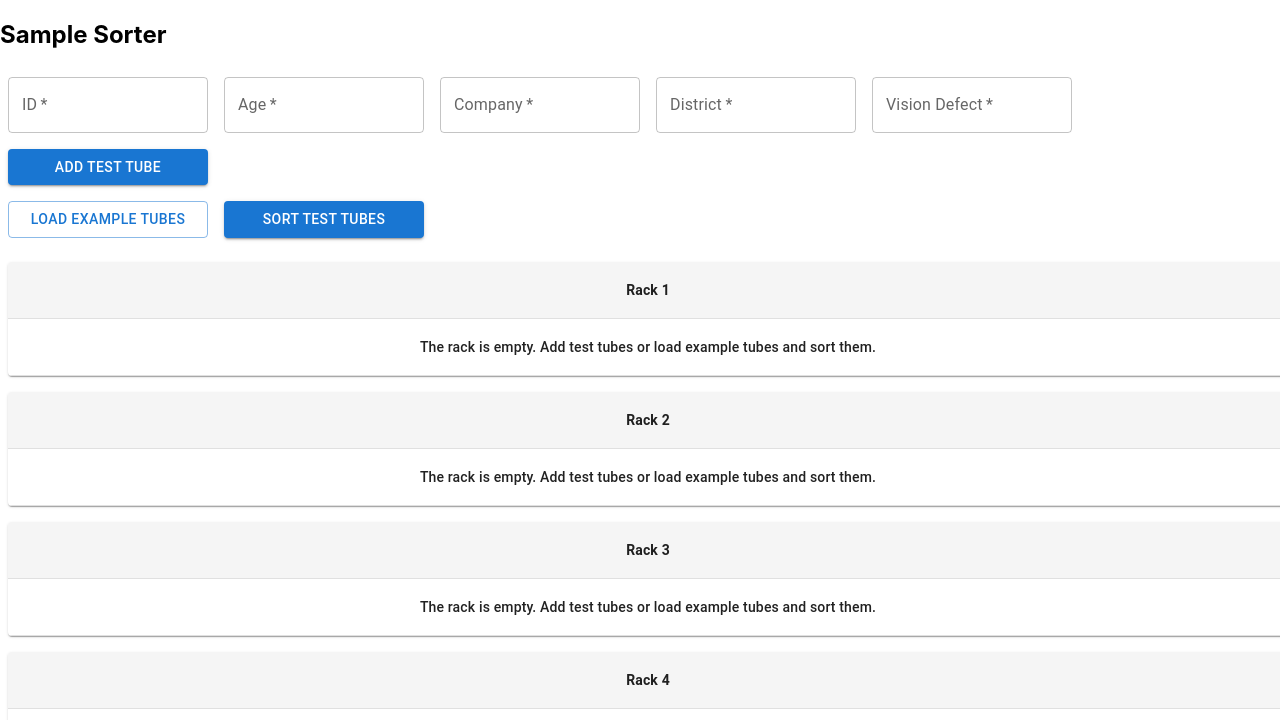
Test: SampleSorter › displays sorted racks after clicking Sort Test Tubes
Type "tube1" into the field labelled "ID *".
click(108, 105); type("tube1")  # box [8,77,208,133]
Type "25" into the number field labelled "Age *".
click(324, 105); type("25")  # box [224,77,424,133]
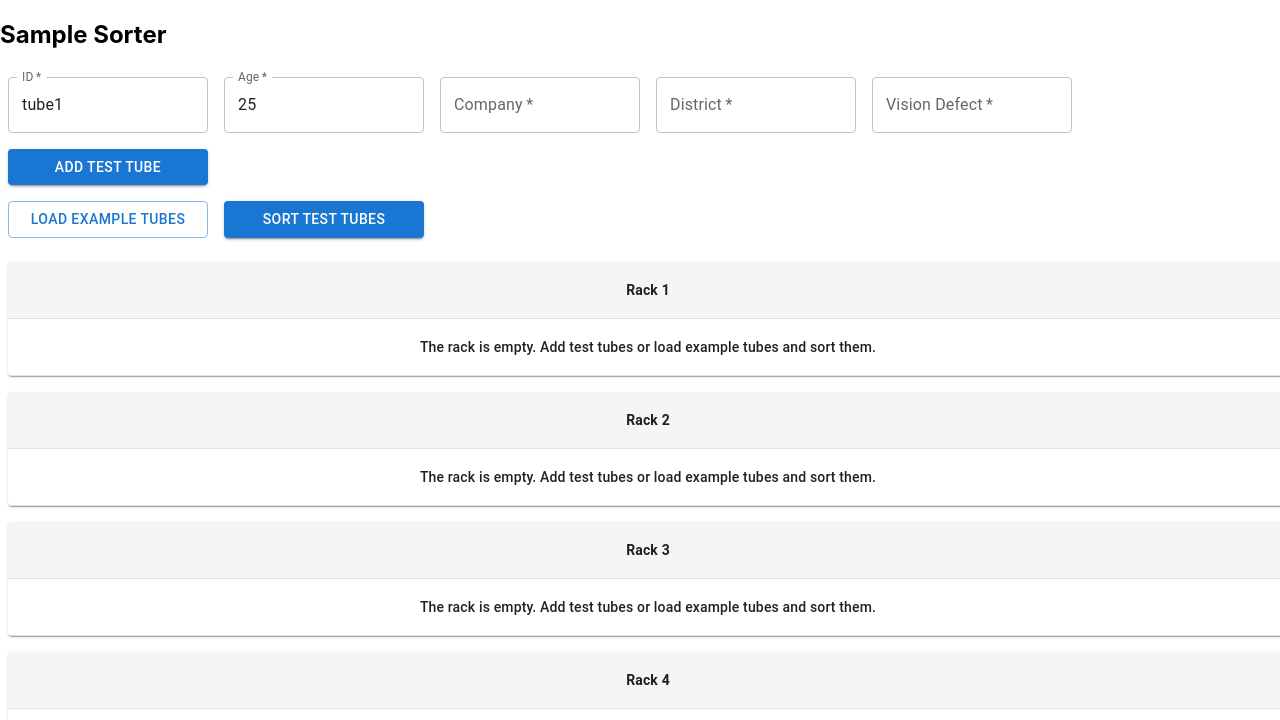
Type "CompanyA" into the field labelled "Company *".
click(540, 105); type("CompanyA")  # box [440,77,640,133]
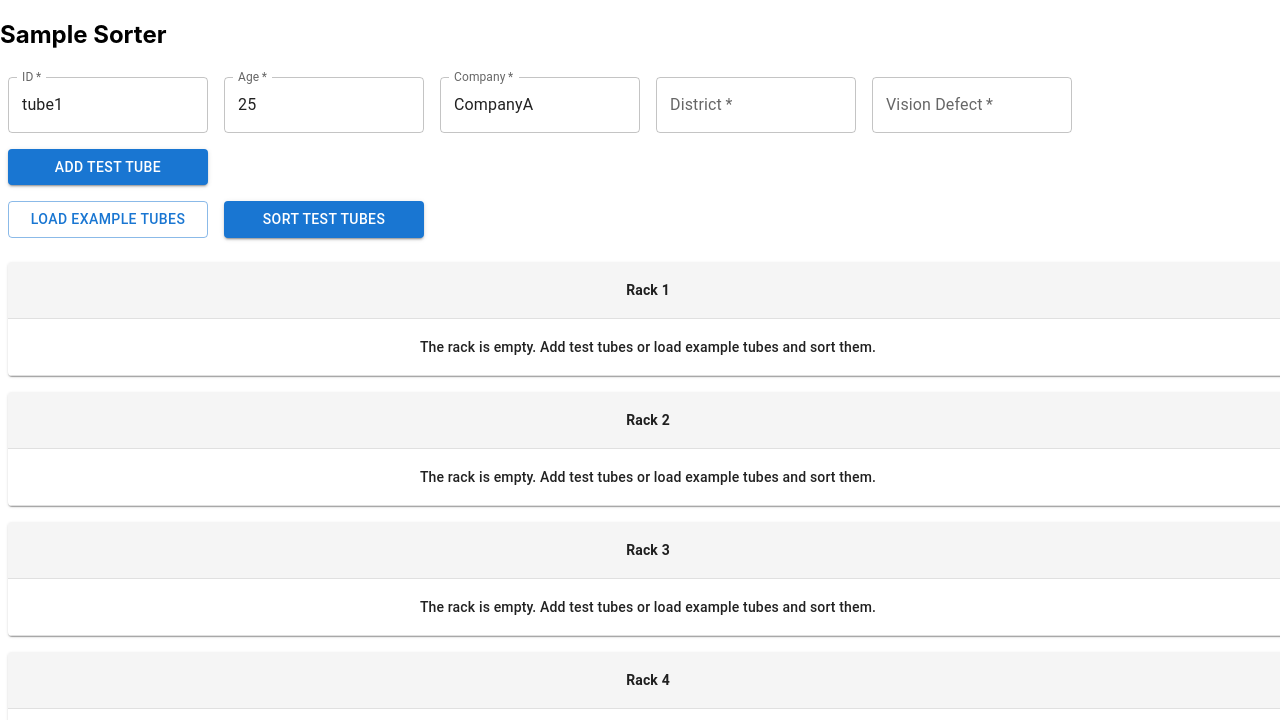
Type "District1" into the field labelled "District *".
click(756, 105); type("District1")  # box [656,77,856,133]
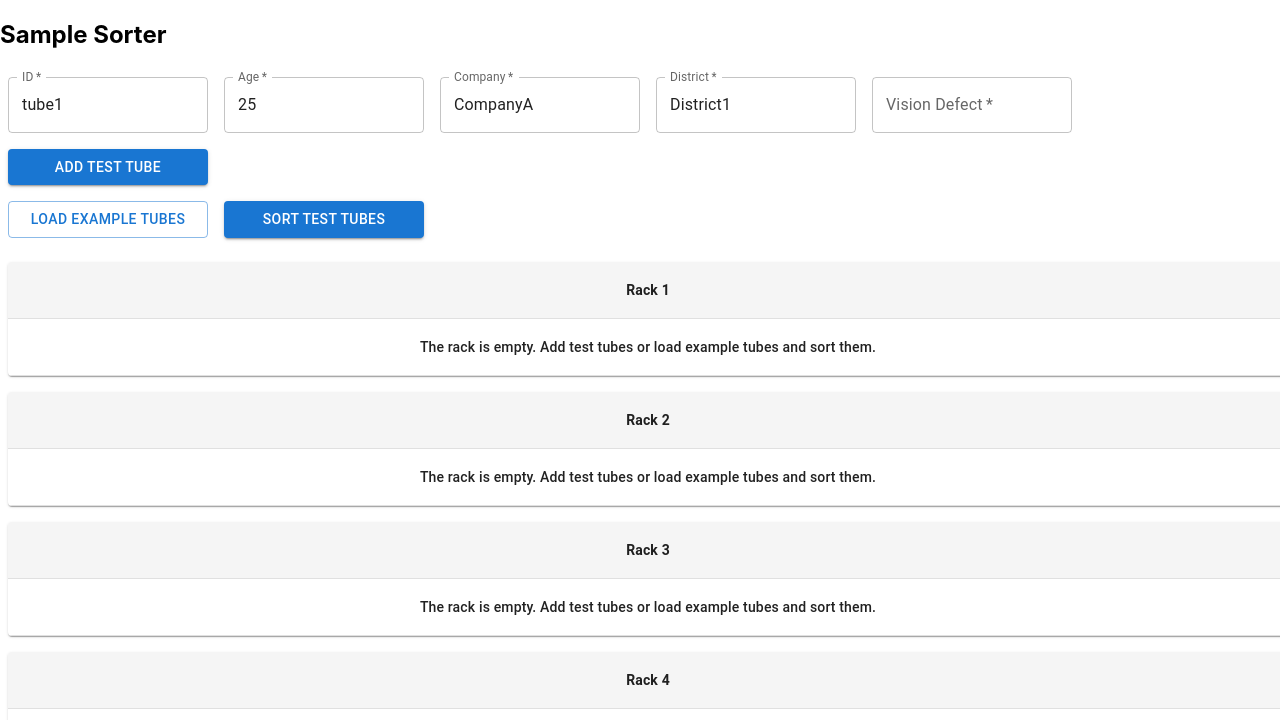
Type "Red" into the field labelled "Vision Defect *".
click(972, 105); type("Red")  # box [872,77,1072,133]
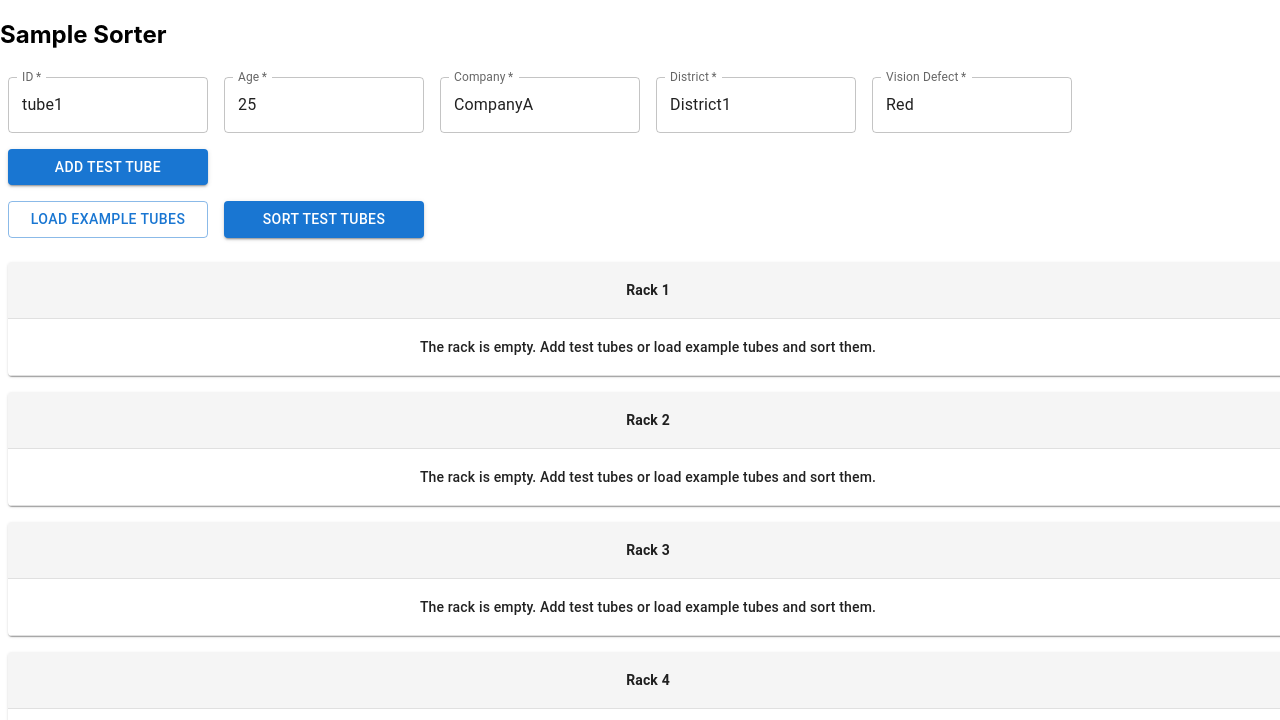
Click the button "Add Test Tube".
click(108, 167)  # box [8,149,208,185]
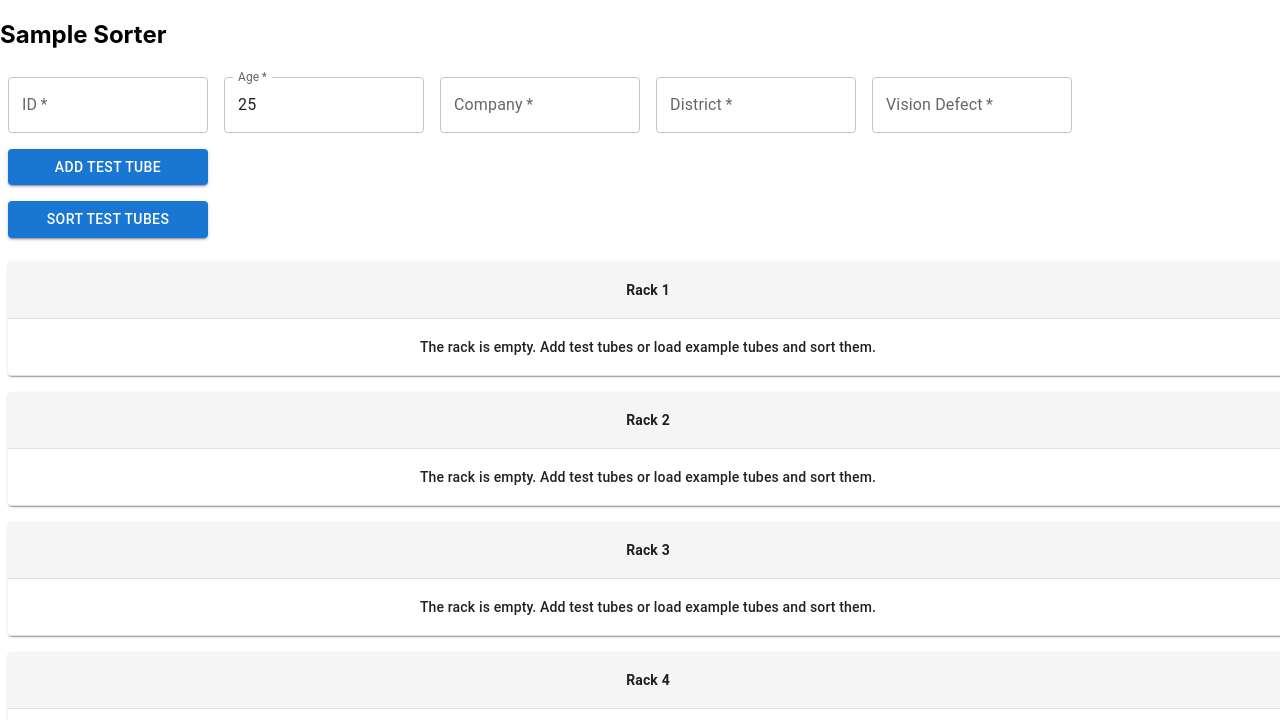
Click the button "Sort Test Tubes".
click(108, 220)  # box [8,201,208,238]
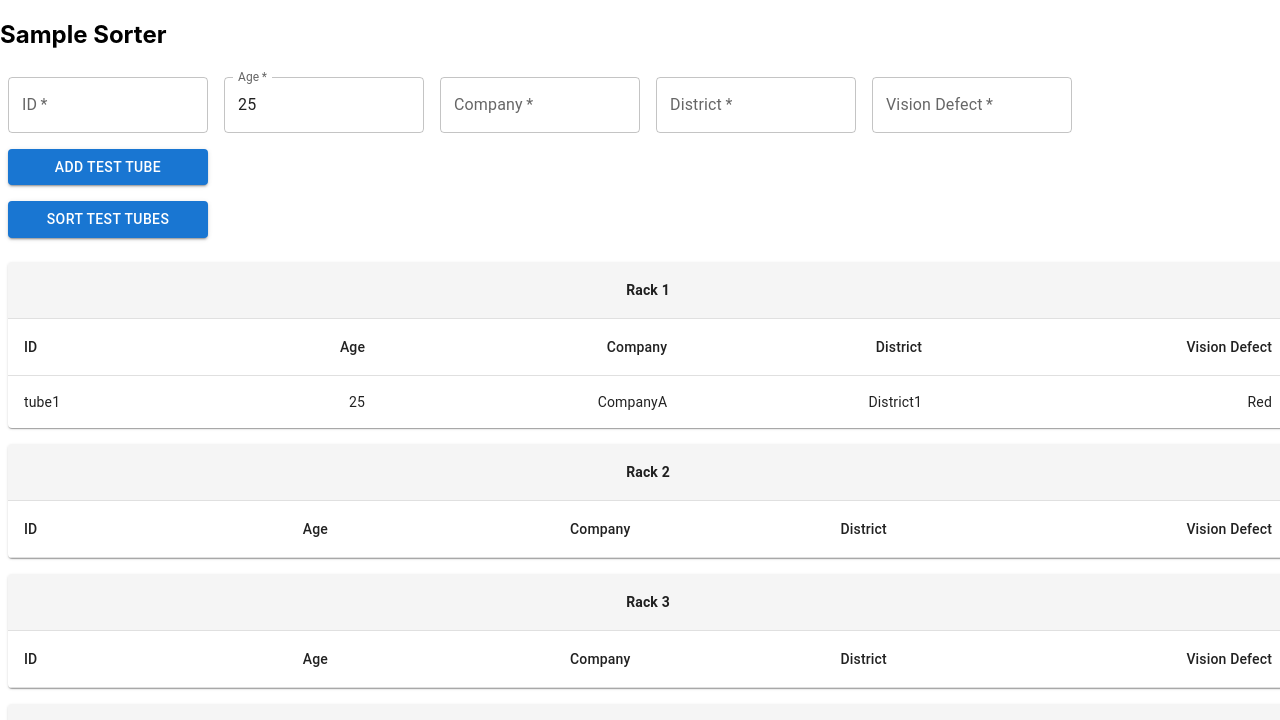
Now the text "tube1" is shown 2 times
Now the text "25" is shown 2 times
Now the text "CompanyA" is shown 2 times
